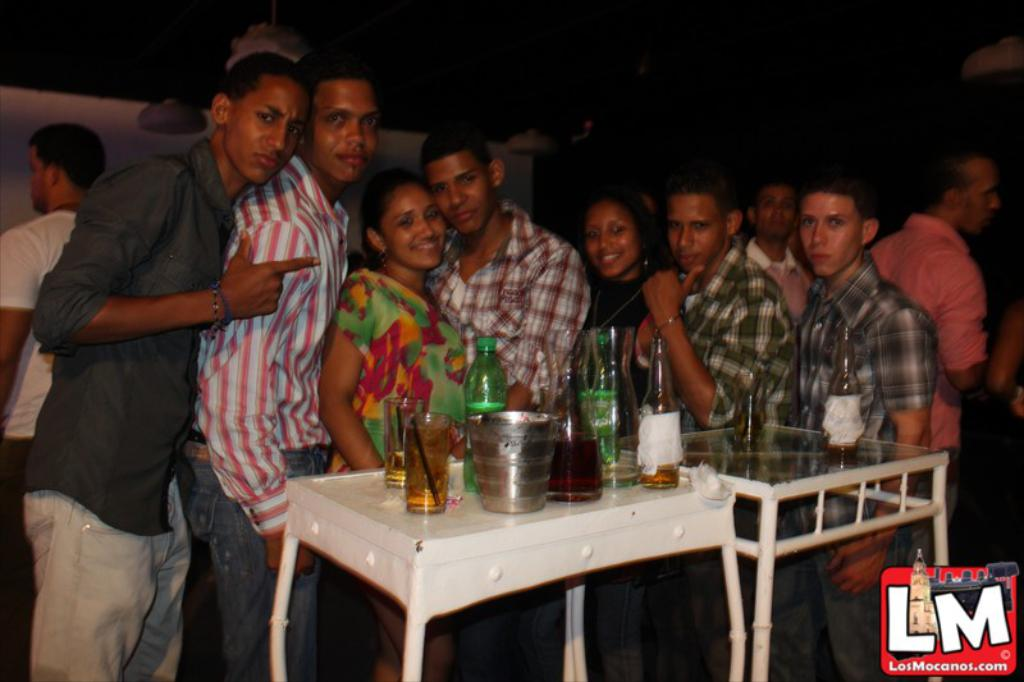Table: (264, 452, 751, 681), (719, 407, 947, 681)
